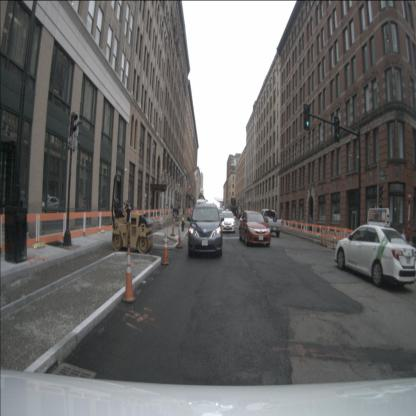cone: (122, 247, 136, 304), (161, 232, 170, 265), (176, 219, 183, 249), (171, 214, 175, 236), (333, 230, 337, 251), (320, 227, 324, 246), (323, 228, 327, 247), (303, 222, 306, 238), (284, 221, 287, 233)
